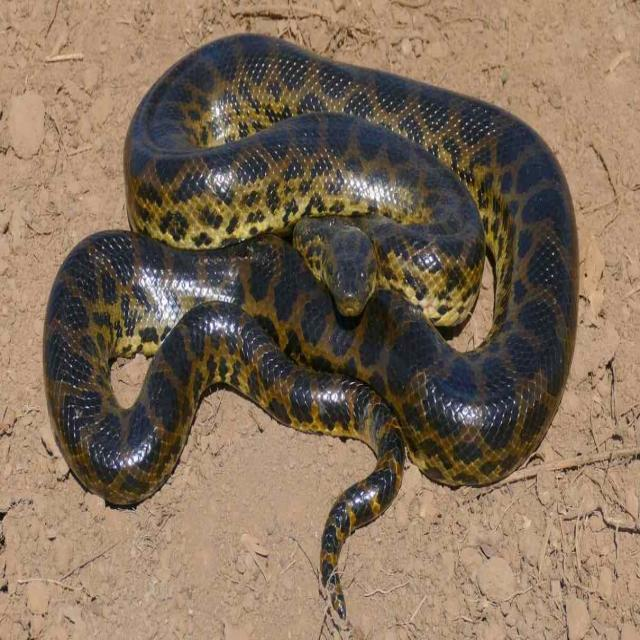Snake: (42, 18, 580, 631)
